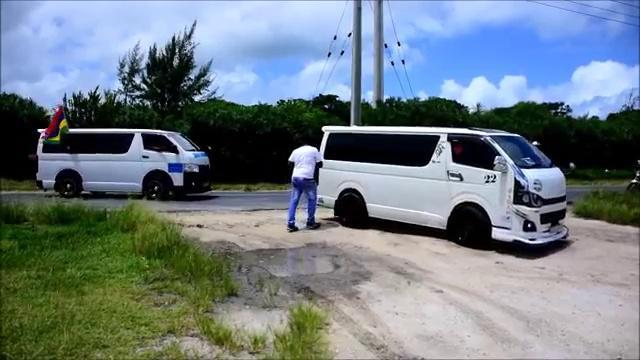van: (315, 122, 570, 254), (34, 121, 212, 202)
